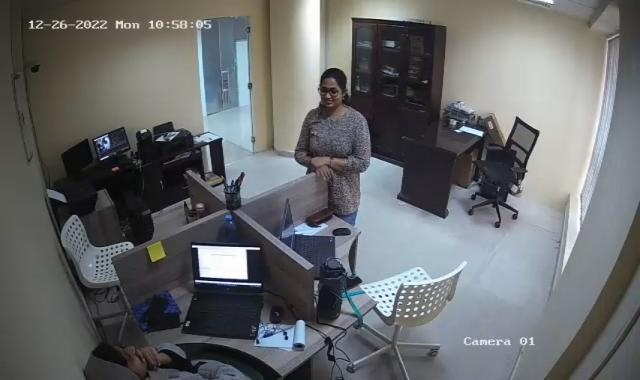no_hairnet: (90, 341, 138, 378), (316, 72, 345, 108)
